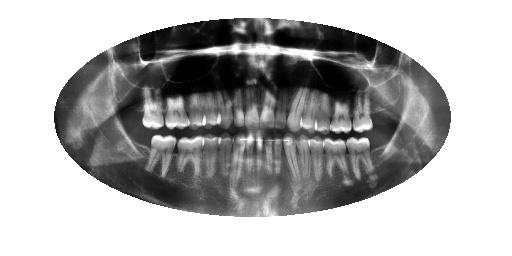Fillings: (346, 137, 376, 181)
